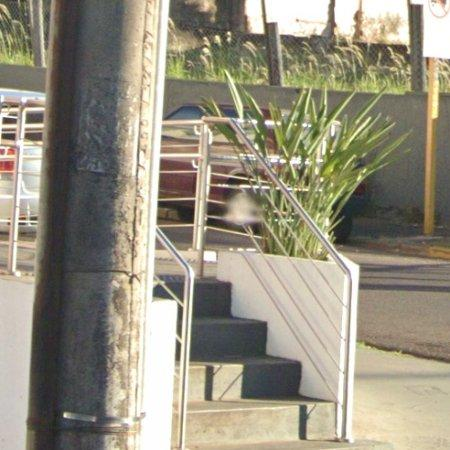stairs: (187, 279, 335, 450)
